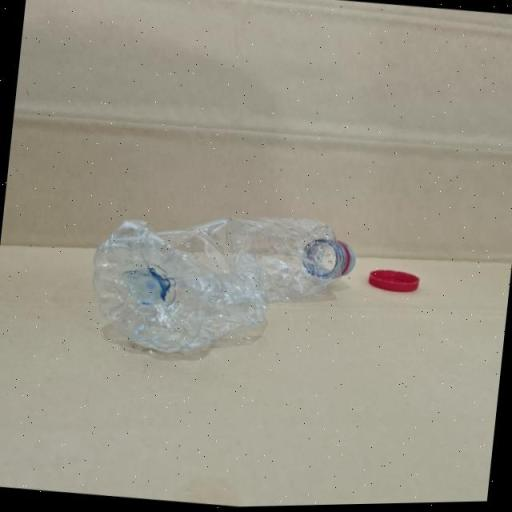plastic: (76, 192, 362, 376)
